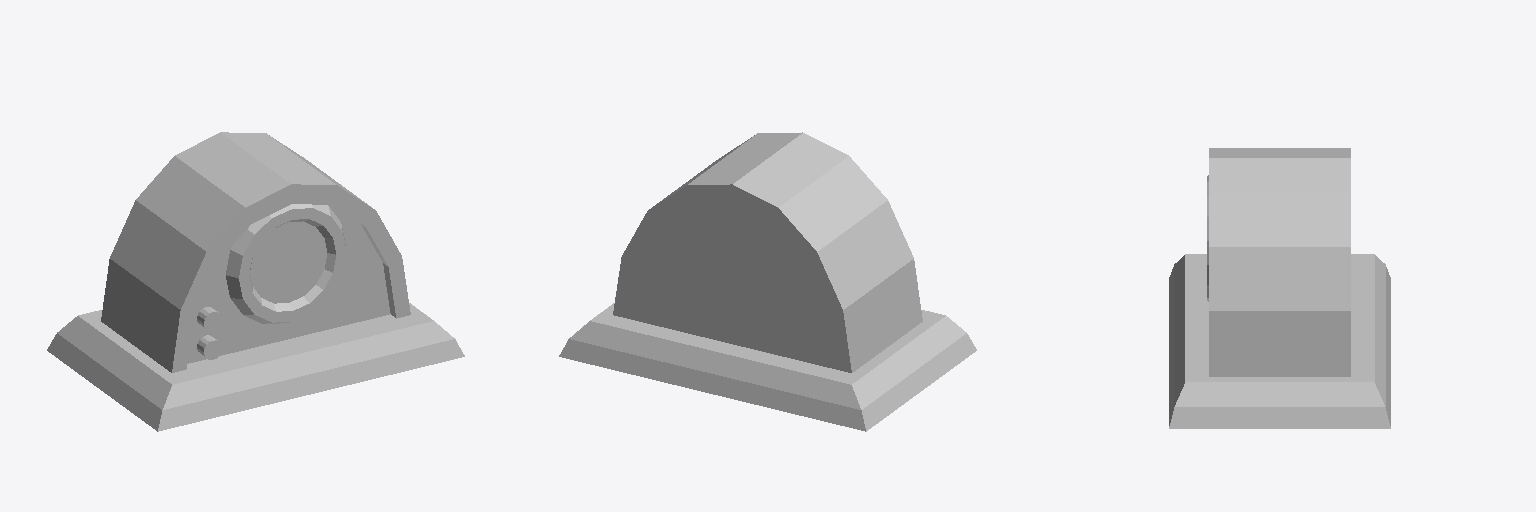
Rendered from Radio.obj.
The picture shows the model from 3 angles: view 1: azimuth 30°, elevation 25°; view 2: azimuth 150°, elevation 25°; view 3: azimuth 270°, elevation 25°; orthographic projection.
Parts seen in each view (by area): view 1: Radio_Cylinder.005; view 2: Radio_Cylinder.005; view 3: Radio_Cylinder.005.
Boxes of the visible parts, <box> form: Radio_Cylinder.005: <box>47,132,464,431</box>; Radio_Cylinder.005: <box>559,132,976,431</box>; Radio_Cylinder.005: <box>1169,148,1390,428</box>.
Bounding box in the file's own units: 0.3913 × 0.2373 × 0.2447.